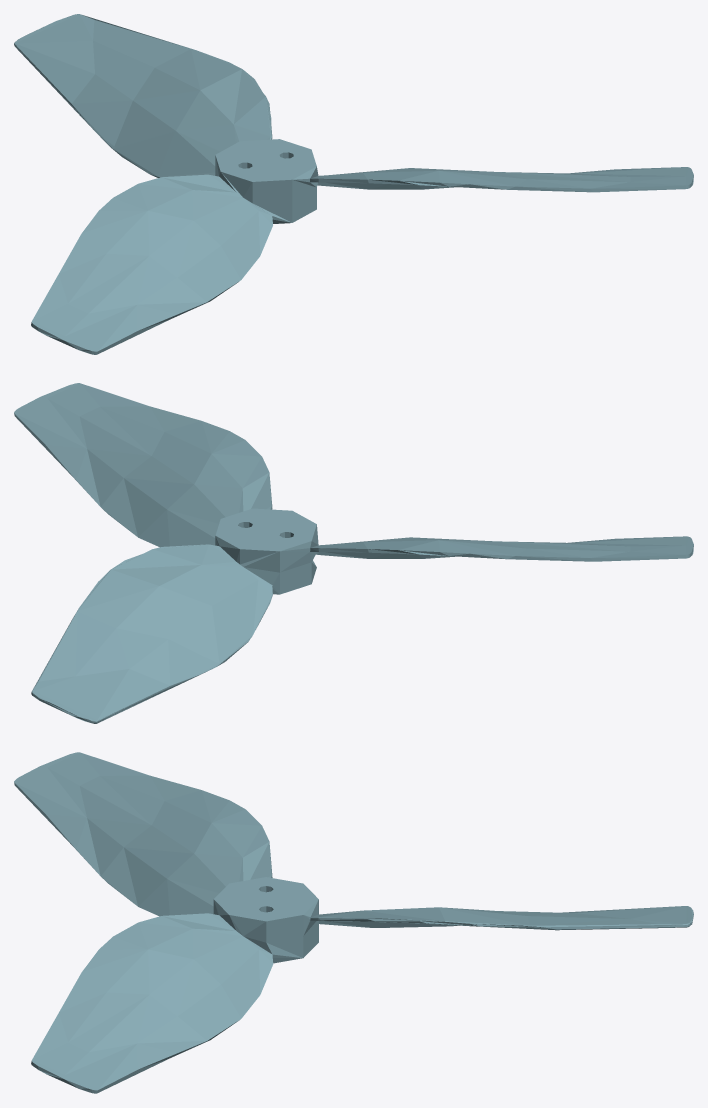
Rendered from sunray150_dae_mid360_realistic_material_audit_gazebo_propeller_rotor_1.obj.
3 renders of one model, top to bottom at view 1: azimuth 30°, elevation 25°; view 2: azimuth 150°, elevation 25°; view 3: azimuth 270°, elevation 25°, orthographic.
Parts seen in each view (by area): view 1: TriBlade_flipped_around_screw_axis_rotor_1_back_left_sunray_cw_s; view 2: TriBlade_flipped_around_screw_axis_rotor_1_back_left_sunray_cw_s; view 3: TriBlade_flipped_around_screw_axis_rotor_1_back_left_sunray_cw_s.
Boxes of the visible parts, x1,y1,x2,y2 form: TriBlade_flipped_around_screw_axis_rotor_1_back_left_sunray_cw_s: [14, 14, 693, 354]; TriBlade_flipped_around_screw_axis_rotor_1_back_left_sunray_cw_s: [14, 383, 693, 723]; TriBlade_flipped_around_screw_axis_rotor_1_back_left_sunray_cw_s: [14, 752, 693, 1093].
Bounding box in the file's own units: 0.0807 × 0.00733 × 0.0713.
